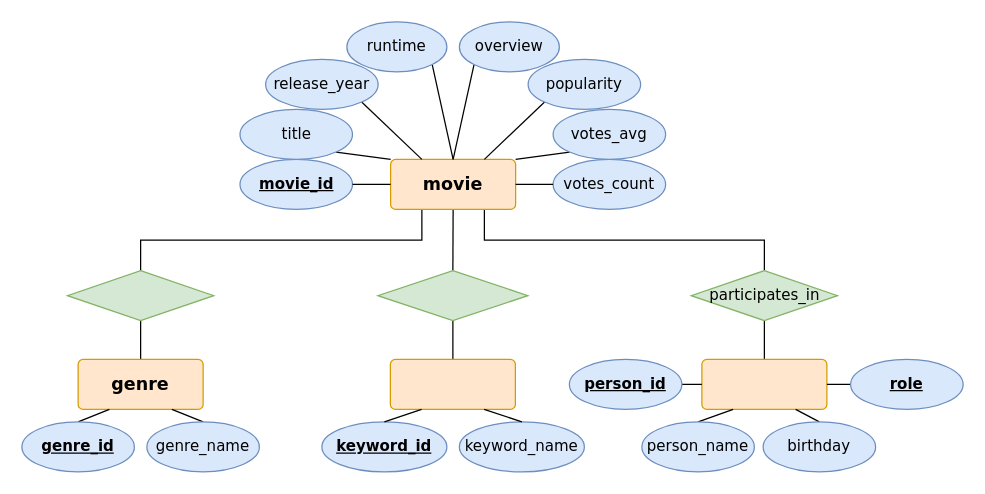
This 985x494 diagram has some shape labels left out. The shapes that lost their labels are listed below. From the top down, each one's centre as x and y in pixels, then its label:
At pixel 140 295: "of_genre".
At pixel 452 295: "related_to".
At pixel 452 383: "keyword".
At pixel 764 383: "person".
